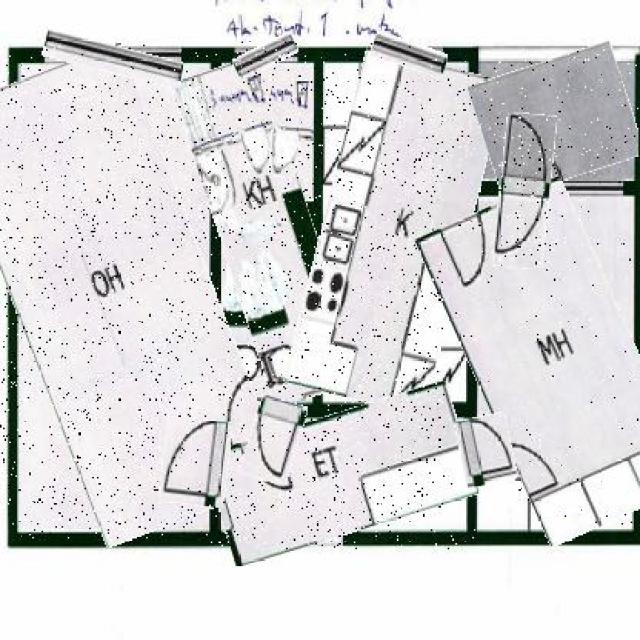door: (497, 114, 552, 268), (160, 417, 231, 506), (244, 397, 302, 481), (457, 416, 514, 486), (270, 118, 298, 177)
window: (43, 38, 183, 80), (369, 37, 448, 74), (234, 38, 298, 72)
zone: (0, 52, 248, 538), (444, 183, 640, 537), (303, 54, 486, 411), (195, 59, 338, 406), (208, 397, 474, 549), (474, 49, 638, 189)
